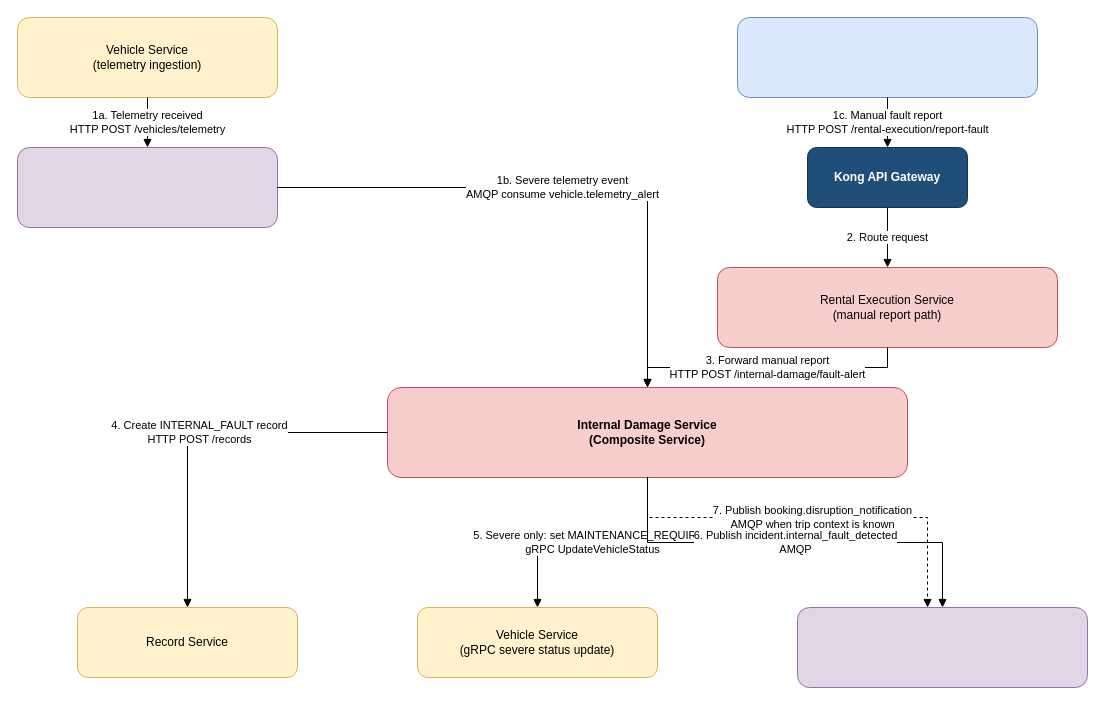
Some shapes in this 1105 by 705 pixel diagram are drawn without their labels. Here are the shapes that lost their labels. From the top down, the box of each, then its label:
(736, 16, 1038, 98): FleetShare Customer UI (manual fault report)
(16, 146, 278, 228): RabbitMQ vehicle.telemetry_alert
(796, 606, 1088, 688): RabbitMQ incident / disruption events
